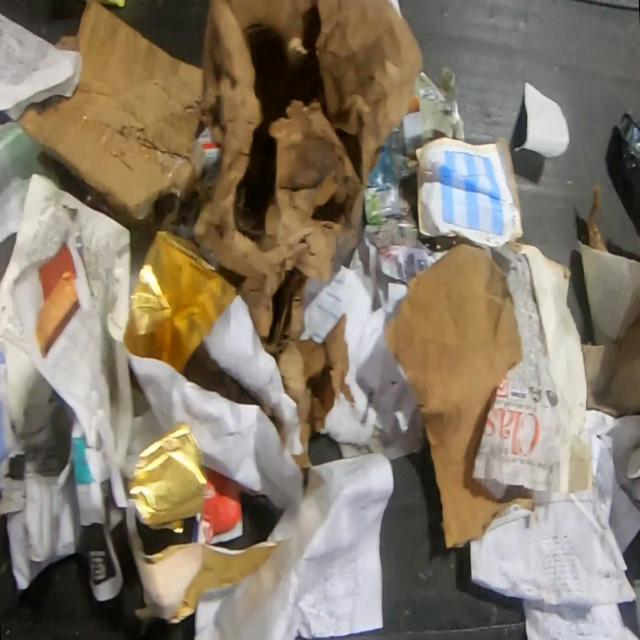cardboard: (193, 0, 425, 471), (382, 241, 536, 550), (15, 0, 204, 233), (577, 182, 640, 417)
rigid_plastic: (615, 109, 640, 207)
soft_plastic: (123, 231, 246, 374), (127, 420, 210, 534)
